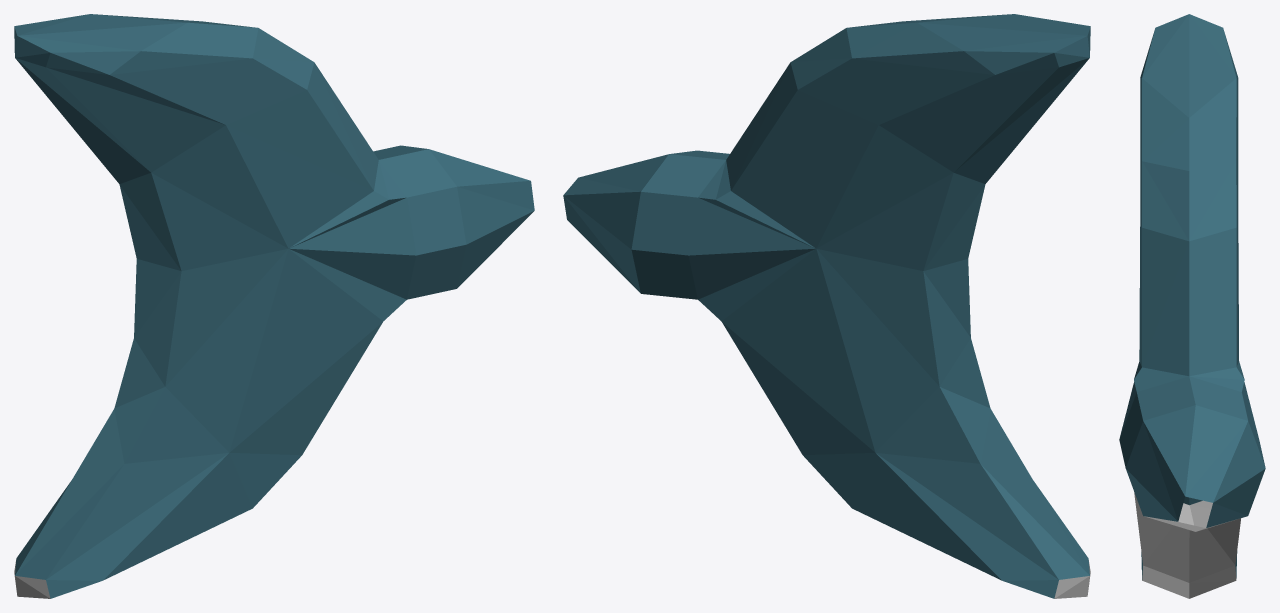
The model's file is Shark1_tail_new10.dae.
3 views of the same model, side by side, from view 1: azimuth 30°, elevation 25°; view 2: azimuth 150°, elevation 25°; view 3: azimuth 270°, elevation 25° (orthographic). The views are drawn at different scales.
Parts seen in each view (by area): view 1: Shark; view 2: Shark; view 3: Shark.
Boxes of the visible parts, x1,y1,x2,y2 form: Shark: (14,14,534,598); Shark: (563,14,1090,598); Shark: (1119,14,1265,598).
Bounding box in the file's own units: 7.43 × 1.97 × 7.75.
